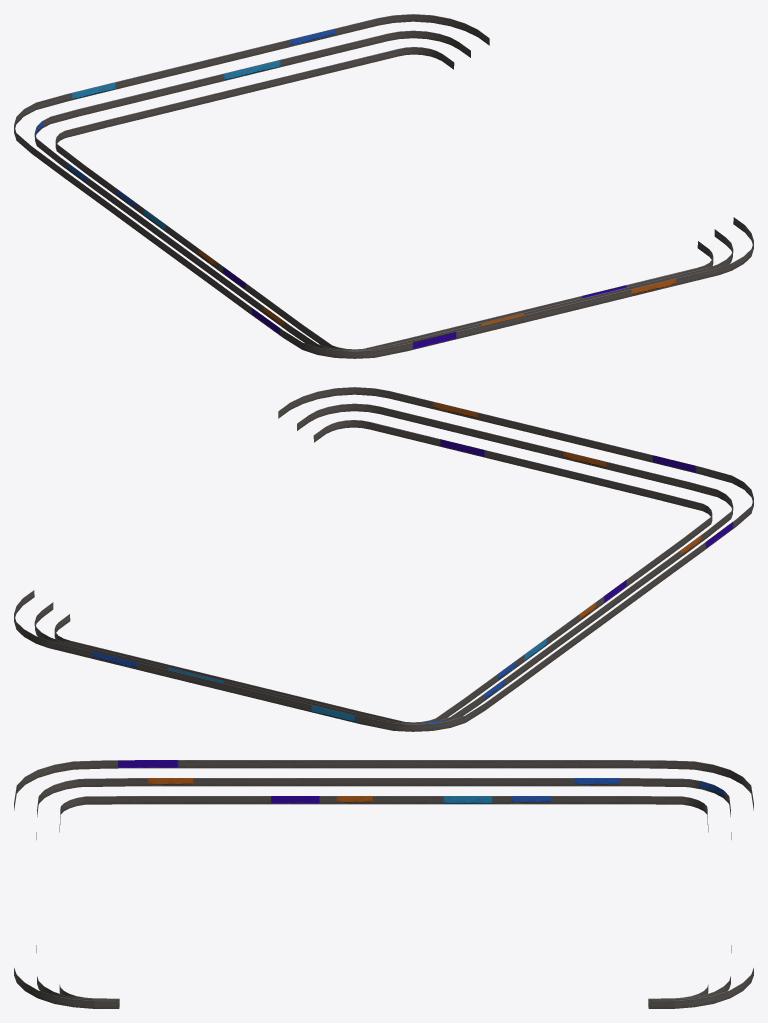
File: st_020_team_001_flag.fbx
The picture shows the model from 3 angles, top to bottom: view 1: azimuth 30°, elevation 25°; view 2: azimuth 150°, elevation 25°; view 3: azimuth 270°, elevation 25°; orthographic projection. The views are drawn at different scales.
Parts seen in each view (by area): view 1: team_flag_002_out; view 2: team_flag_002_out; view 3: team_flag_002_out.
Boxes of the visible parts, x1,y1,x2,y2 form: team_flag_002_out: (14,14,753,358); team_flag_002_out: (14,387,753,731); team_flag_002_out: (14,760,753,1008).
Size of the model in its own units: 112 by 5.48 by 146.
